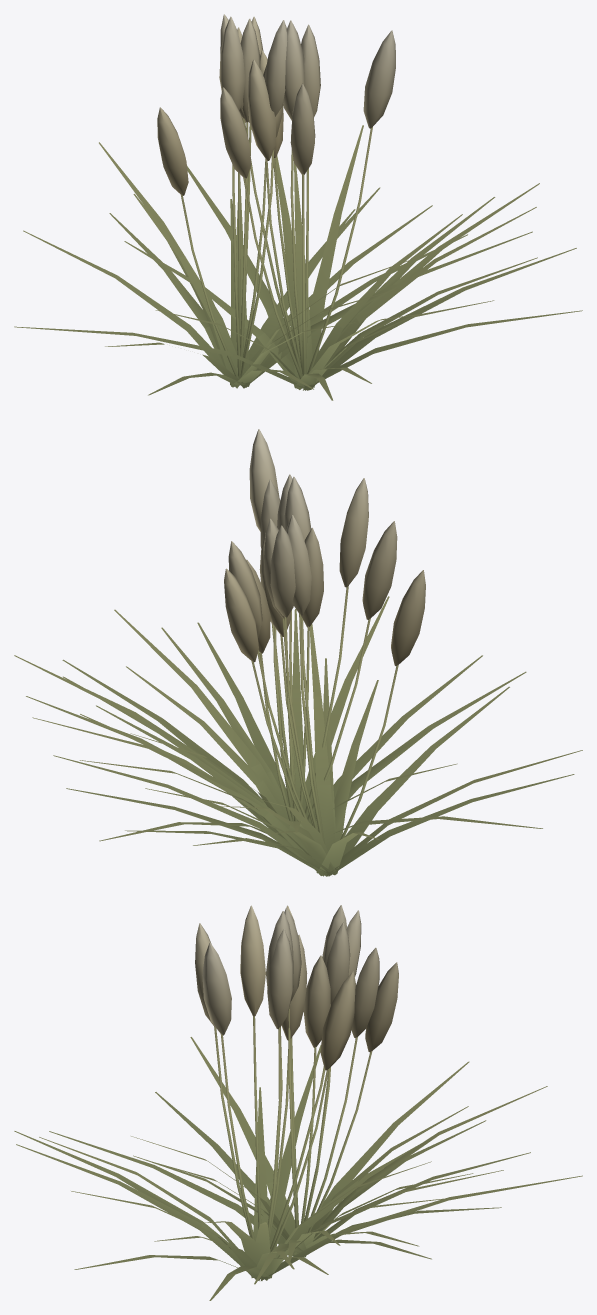
The model's file is pampas_grass.glb.
3 renders of one model, top to bottom at view 1: azimuth 30°, elevation 25°; view 2: azimuth 150°, elevation 25°; view 3: azimuth 270°, elevation 25°, orthographic. The views are drawn at different scales.
Parts seen in each view (by area): view 1: v1, v0; view 2: v1, v0; view 3: v1, v0.
Part boxes in pixels (box(x1,y1,x2,y2)): v1: box(14, 14, 582, 400); v0: box(23, 16, 532, 395); v1: box(14, 429, 542, 841); v0: box(53, 476, 582, 876); v1: box(14, 905, 582, 1300); v0: box(49, 905, 547, 1284).
Size of what is drawn, in the model's own units: 2.09 by 1.4 by 1.98.
